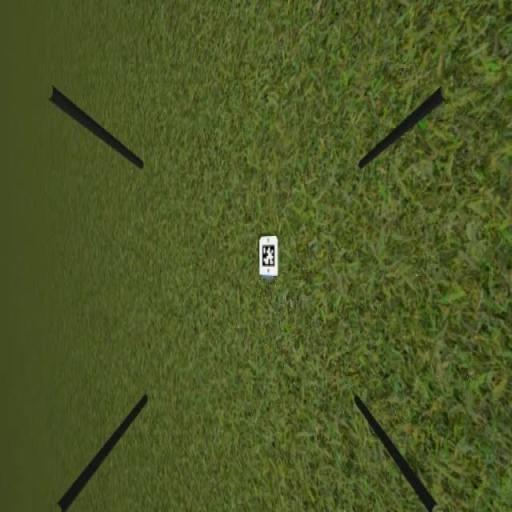UGV: (257, 230, 281, 279)
